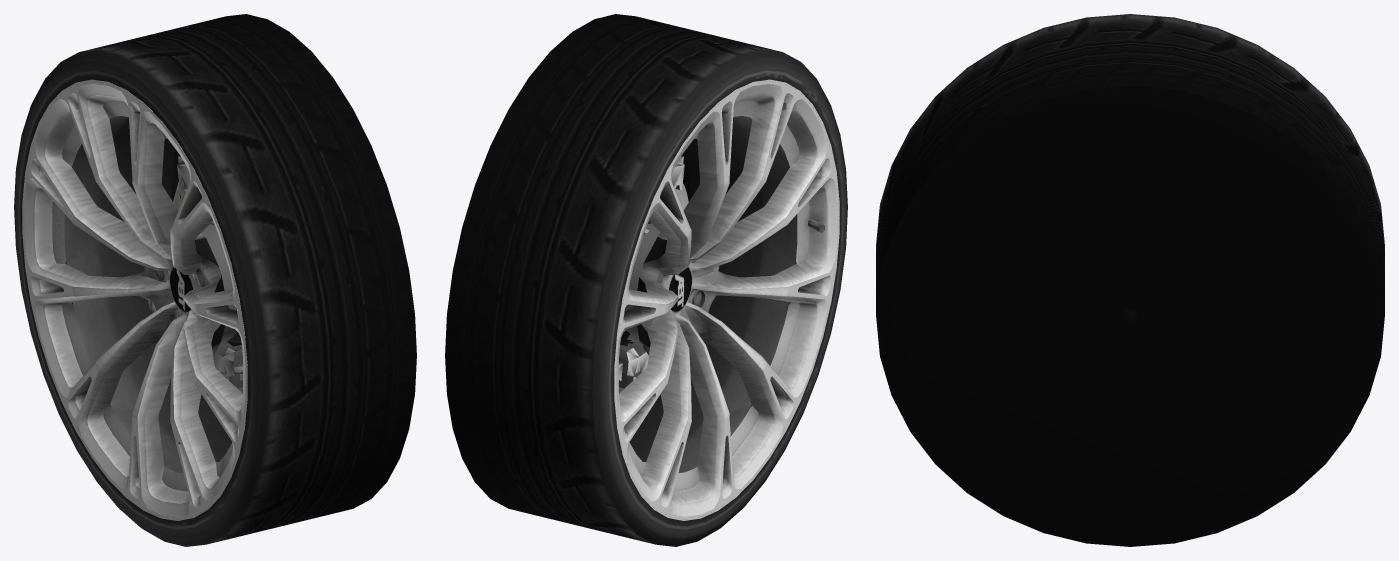
3 renders of one model, left to right at view 1: azimuth 30°, elevation 25°; view 2: azimuth 150°, elevation 25°; view 3: azimuth 270°, elevation 25°, orthographic.
Visible parts, largest first — view 1: Rimrl_garage_a3_vcolor, Tirerr_garage_a, Tirerl_garage_a, Rimrl_garage_a2_vcolor, support_rr_a_vcolor, Rimrl_garage_a1_vcolor; view 2: Tirerr_garage_a, Rimrl_garage_a3_vcolor, Tirerl_garage_a, Rimrl_garage_a2_vcolor, support_rr_a_vcolor, Rimrl_garage_a1_vcolor; view 3: Tirerr_garage_a, Tirerl_garage_a.
Boxes of the visible parts, box(x1,y1,x2,y2) form: Rimrl_garage_a3_vcolor: box(24, 83, 245, 516); Tirerr_garage_a: box(14, 14, 415, 542); Tirerl_garage_a: box(14, 52, 416, 546); Rimrl_garage_a2_vcolor: box(22, 79, 247, 520); support_rr_a_vcolor: box(213, 341, 242, 393); Rimrl_garage_a1_vcolor: box(52, 209, 193, 313); Tirerr_garage_a: box(445, 14, 847, 545); Rimrl_garage_a3_vcolor: box(616, 83, 837, 516); Tirerl_garage_a: box(445, 55, 847, 546); Rimrl_garage_a2_vcolor: box(614, 79, 839, 520); support_rr_a_vcolor: box(619, 341, 648, 393); Rimrl_garage_a1_vcolor: box(668, 266, 692, 313); Tirerr_garage_a: box(876, 14, 1384, 546); Tirerl_garage_a: box(876, 86, 1384, 546).
Size of the model in its own units: 0.8502 by 2.37 by 2.37.
